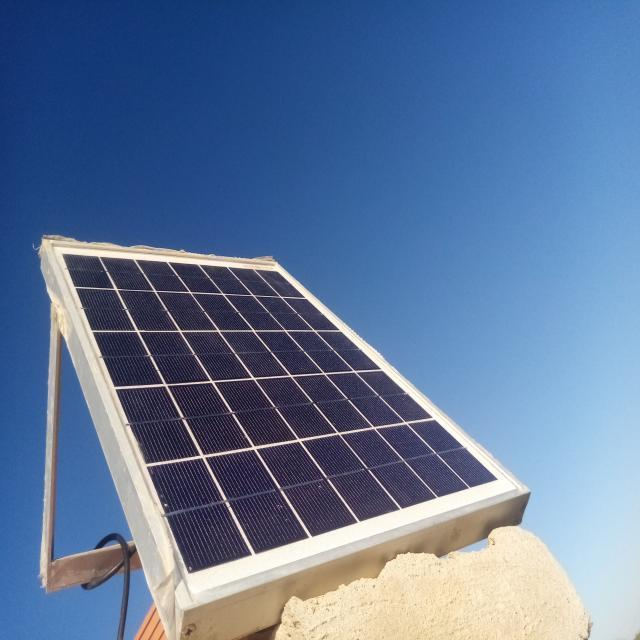Normal Solar Panel: (46, 240, 523, 615)
